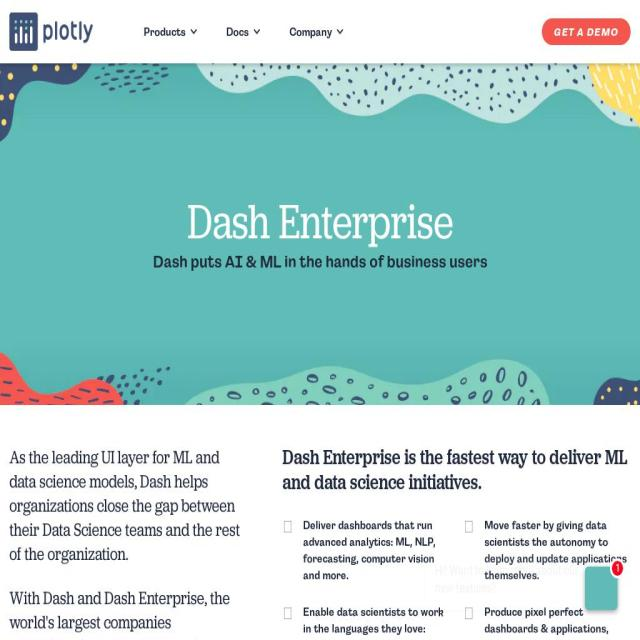button: (10, 12, 101, 51), (541, 17, 631, 46)
heading: (9, 196, 630, 246), (282, 445, 630, 496)
image: (10, 12, 101, 51)
text: (9, 445, 243, 567), (9, 586, 230, 640), (71, 252, 569, 272), (484, 518, 627, 582), (303, 518, 436, 582), (304, 605, 444, 640), (484, 605, 608, 640), (276, 17, 356, 46), (132, 17, 210, 46), (214, 17, 272, 46), (554, 25, 588, 38), (587, 25, 619, 38), (282, 516, 294, 536), (282, 604, 294, 622), (464, 516, 474, 536), (464, 604, 474, 622)
